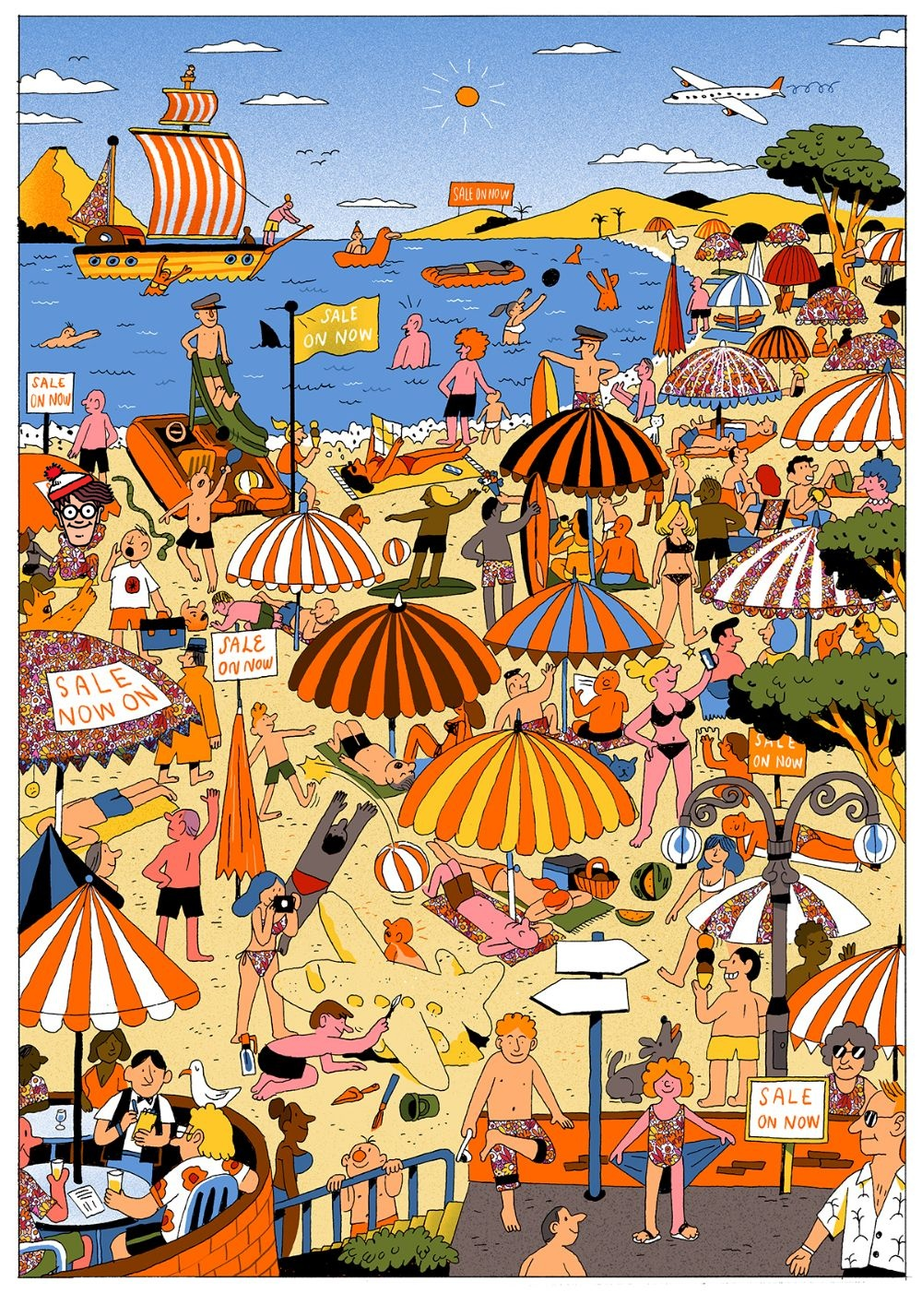waldo: (43, 462, 115, 547)
